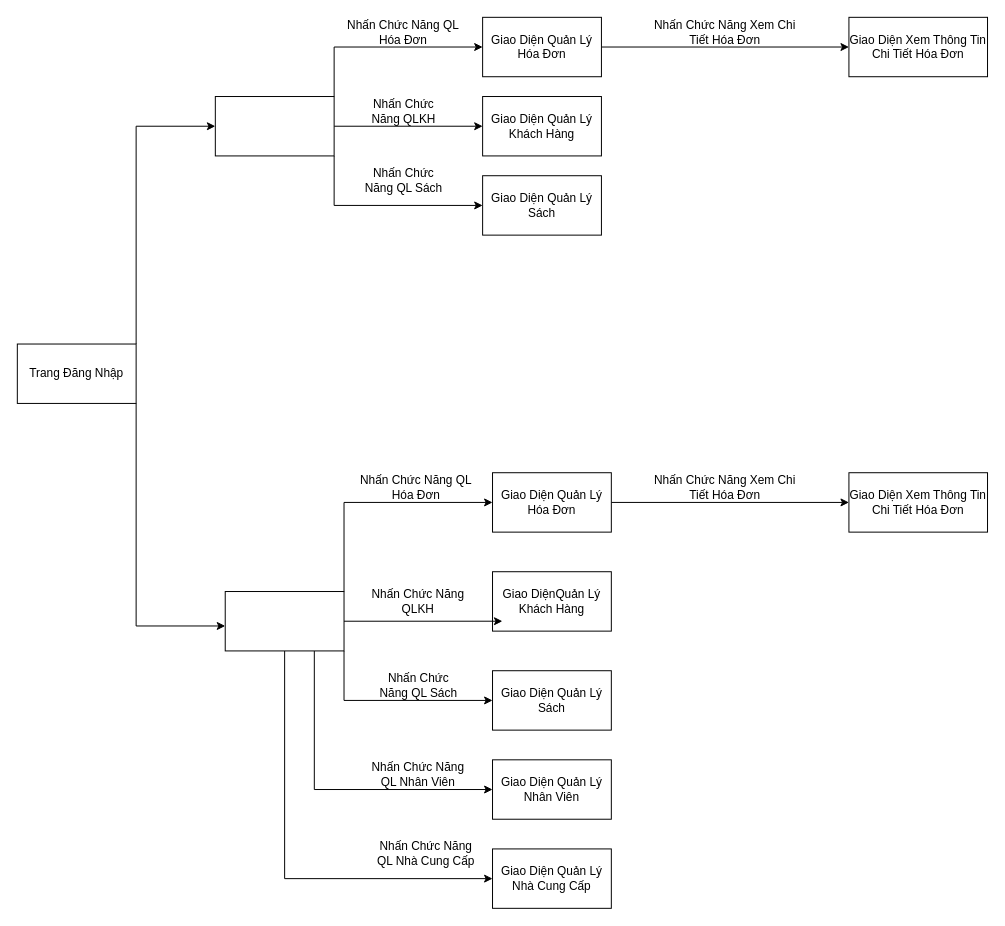
Some shapes in this 1005 by 926 pixel diagram are drawn without their labels. The shapes that lost their labels are listed below. From the top down, each one's centre as x and y in pixels, then its label:
At point (274, 126): "Trang Chính Của Nhân Viên".
At point (284, 621): "Trang Chính Của Quản Lý".
